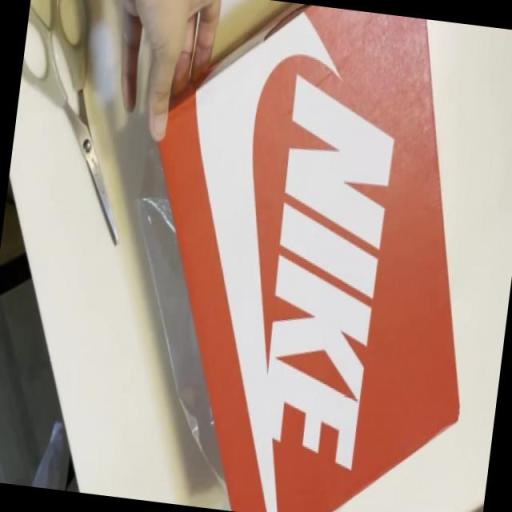Nike: (244, 73, 403, 475)
